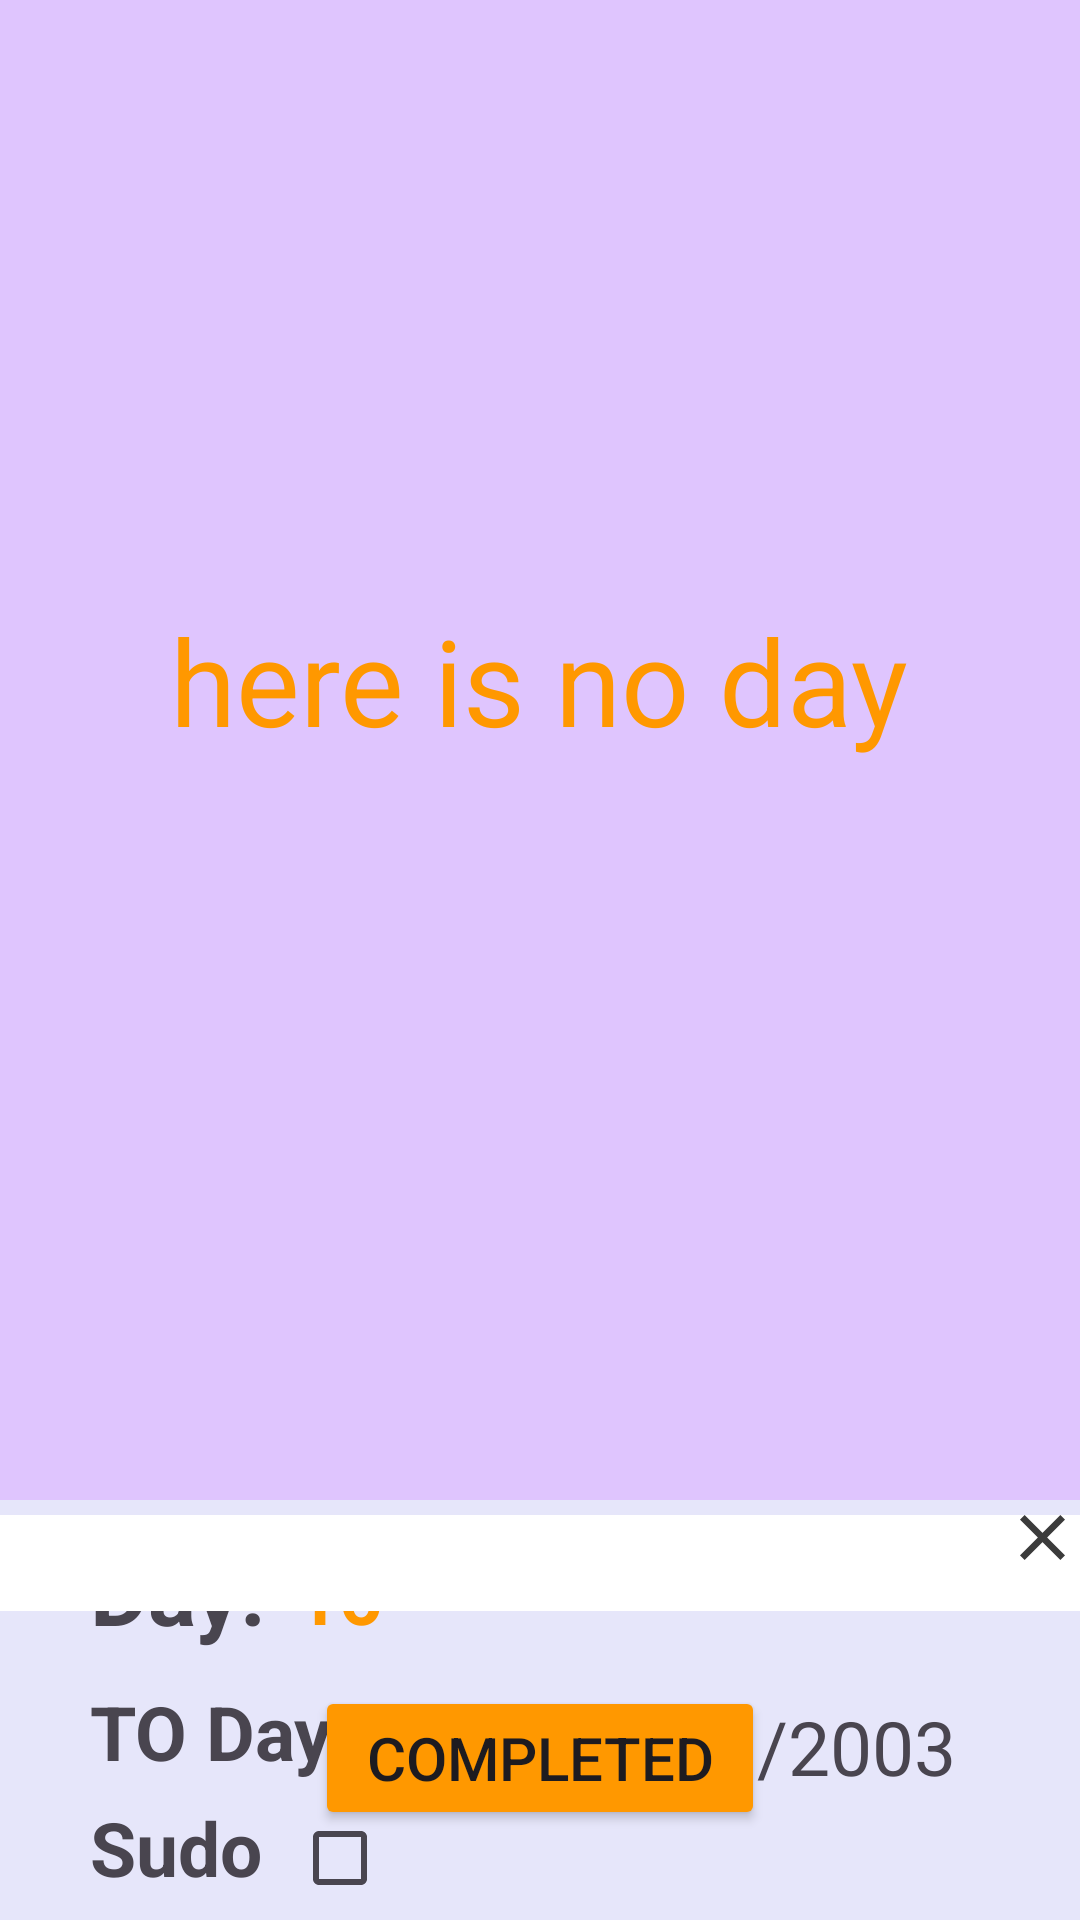

Icons on this 1080px x 1920px Android screen, each with its box as box=[x1, y1, x2, y2]:
close: box=[1020, 1515, 1065, 1560]
